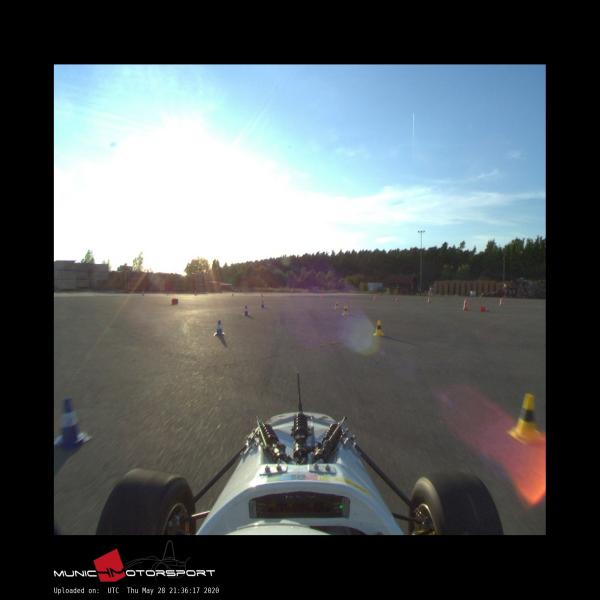blue_cone: (54, 397, 92, 450), (214, 320, 226, 336), (243, 305, 249, 316), (260, 300, 265, 308)
large_orange_cone: (462, 298, 468, 310)
yellow_cone: (507, 393, 543, 445), (373, 320, 385, 336), (342, 306, 348, 315), (334, 302, 340, 309)
